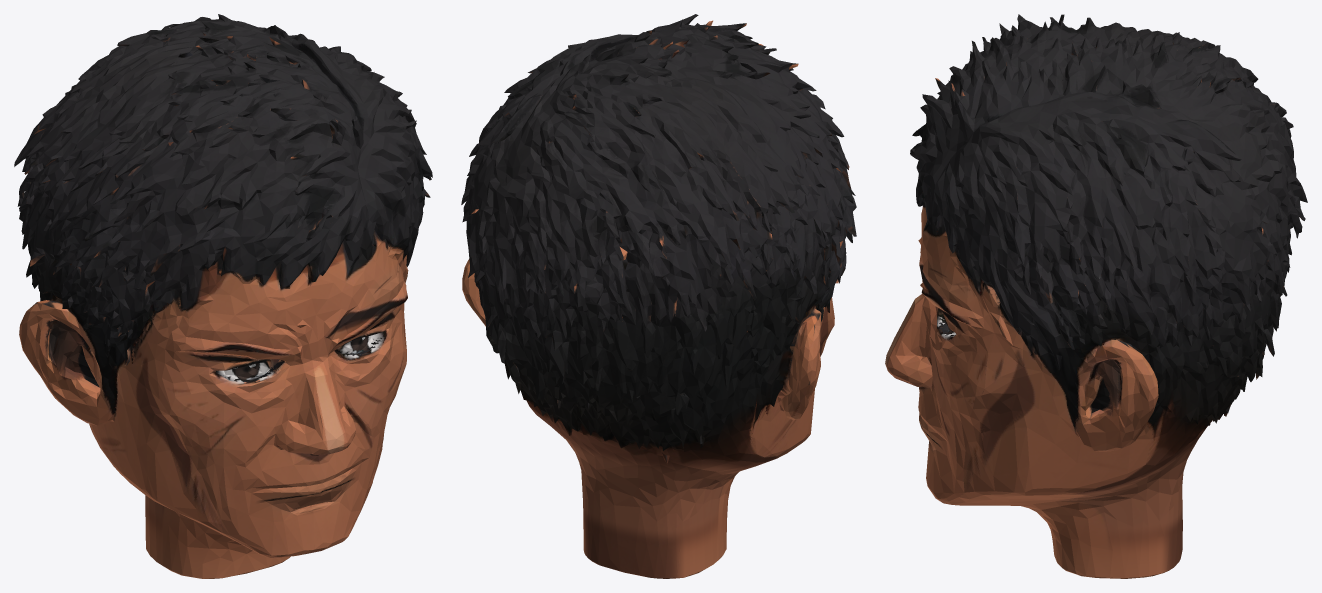
File: side_iuchifarmer_repaired_atlas.glb
3 renders of one model, left to right at view 1: azimuth 30°, elevation 25°; view 2: azimuth 150°, elevation 25°; view 3: azimuth 270°, elevation 25°, orthographic. The views are drawn at different scales.
Parts seen in each view (by area): view 1: temp_mesh.ply; view 2: temp_mesh.ply; view 3: temp_mesh.ply.
Boxes of the visible parts, <box> form: temp_mesh.ply: <box>14,14,432,578</box>; temp_mesh.ply: <box>461,14,856,578</box>; temp_mesh.ply: <box>885,14,1307,578</box>.
Size of the model in its own units: 1.48 by 1.97 by 1.48.
1 material, 1 textured.
